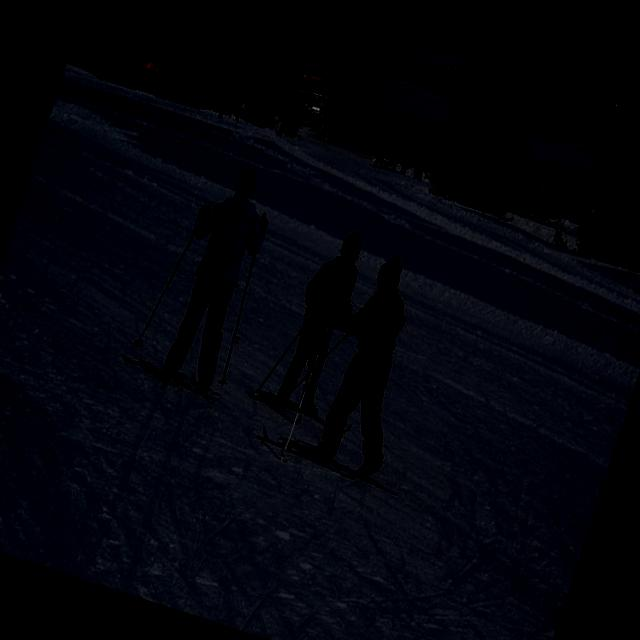Vehicle: (288, 72, 336, 126)
